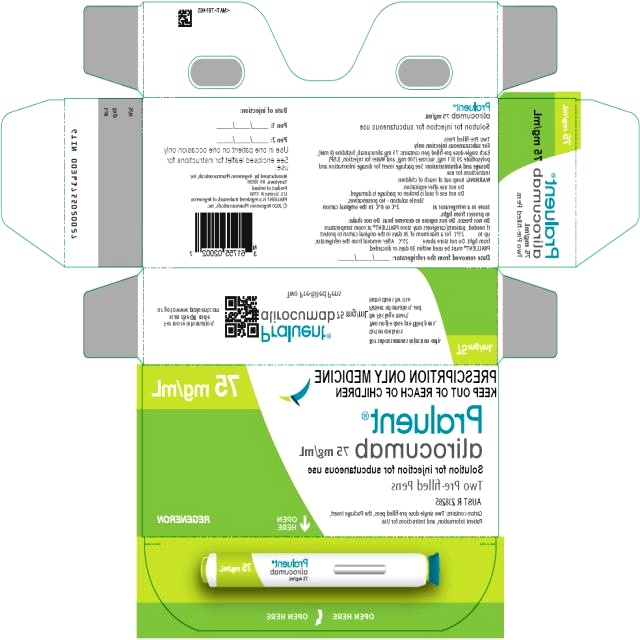Artwork: (0, 0, 640, 640)
Back_Panel: (143, 98, 498, 268)
Bottom_Part: (65, 98, 143, 267)
Extra_Areas: (143, 2, 497, 98), (1, 98, 65, 267), (576, 98, 640, 267), (497, 267, 559, 365), (81, 267, 143, 364), (497, 0, 558, 98), (83, 1, 144, 97)
Front_Panel: (142, 365, 499, 537)
Side_Panel: (137, 537, 499, 637), (143, 268, 498, 365)
Top_Panel: (499, 98, 576, 268)
